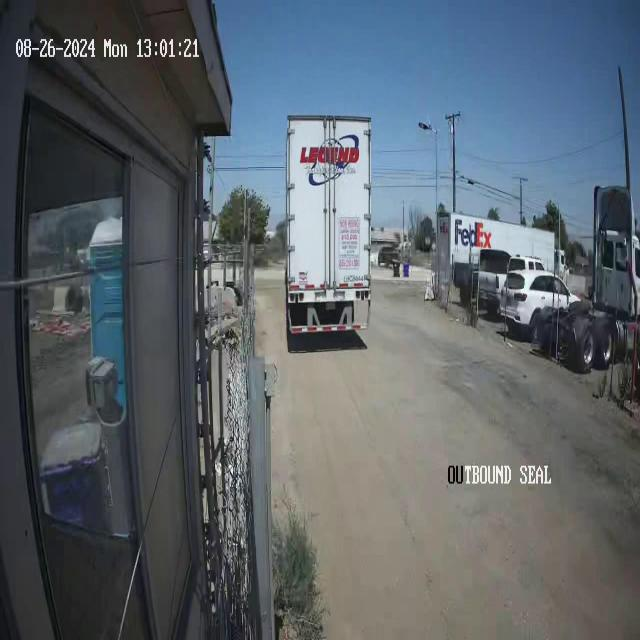TRUCK_CONTAINER: (284, 113, 374, 334)
